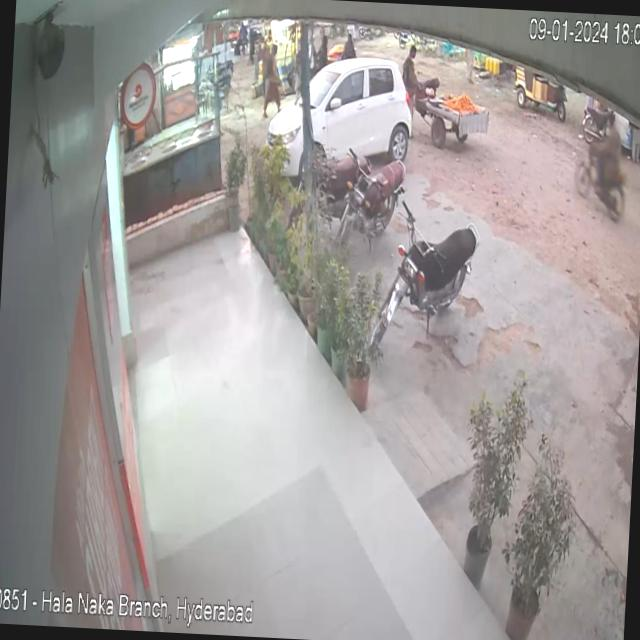Motorcycle: (368, 188, 490, 360), (341, 147, 413, 244), (580, 100, 624, 160)
